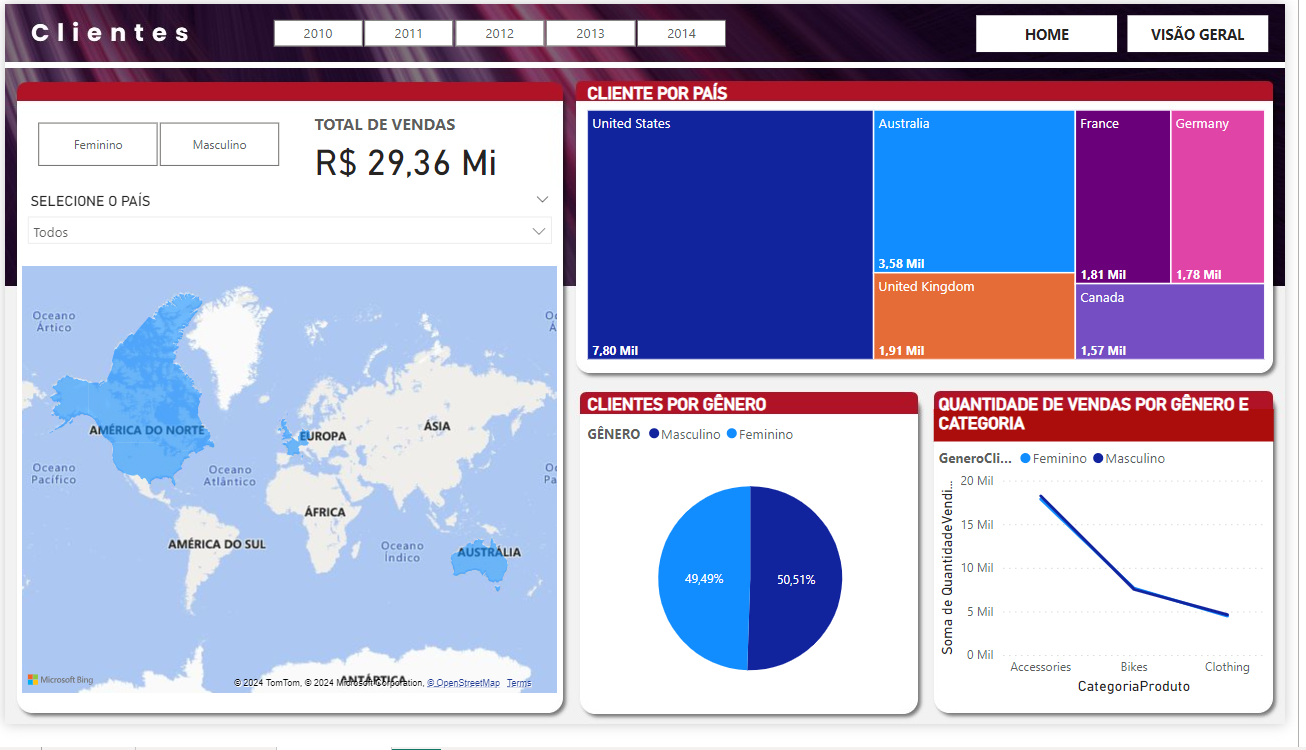

What the dashboard file says about the page in this screenshot:
{"tool":"powerbi","page":{"name":"CLIENTES","canvas":[1280,720],"ordinal":2},"visuals":[{"type":"shape","box":[928.8,405,340,32.5],"z":0},{"type":"filledMap","fields":{"Category":["vw_AnaliseVendas.PaisCliente"]},"box":[12.3,257.3,544.1,437.5],"z":1000},{"type":"cardVisual","fields":{"Data":["Sum(vw_AnaliseVendas.ValorVenda)"]},"box":[292.9,96.8,263.5,87],"z":2000},{"type":"slicer","fields":{"Values":["vw_AnaliseVendas.PaisCliente"]},"box":[12.3,183.8,544.1,73.5],"z":3000},{"type":"pieChart","title":"CLIENTES POR GÊNERO","fields":{"Category":["vw_AnaliseVendas.GeneroCliente"],"Y":["Sum(vw_AnaliseVendas.IDCliente)"]},"box":[577.1,389.7,335.7,319.8],"z":4000},{"type":"treemap","title":"CLIENTE POR PAÍS","fields":{"Group":["vw_AnaliseVendas.PaisCliente"],"Values":["vw_AnaliseVendas.qt_cliente"]},"box":[577.1,78.4,687.4,281.8],"z":5000},{"type":"slicer","fields":{"Values":["vw_AnaliseVendas.GeneroCliente"]},"box":[12.3,96.8,280.6,73.5],"z":6000},{"type":"lineChart","title":"QUANTIDADE DE VENDAS POR GÊNERO E CATEGORIA","fields":{"Category":["vw_AnaliseVendas.CategoriaProduto"],"Y":["Sum(vw_AnaliseVendas.QuantidadeVendida)"],"Series":["vw_AnaliseVendas.GeneroCliente"]},"box":[928.8,390,336.2,305],"z":7000},{"type":"pageNavigator","box":[971.2,11.2,293.8,37.5],"z":9000},{"type":"slicer","fields":{"Values":["vw_AnaliseVendas.DataPedido.Variation.Hierarquia de datas.Ano"]},"box":[242.5,8.8,502.5,40],"z":9001}]}

Visuals, with their boxes in screenshot pixels (x1, y1, x2, y2), scaled from the page's 1280x720 canvas onto the 1306x750 screenshot:
shape: <region>948, 422, 1295, 456</region>
filledMap - vw_AnaliseVendas.PaisCliente: <region>13, 268, 568, 724</region>
cardVisual - Sum(vw_AnaliseVendas.ValorVenda): <region>299, 101, 568, 191</region>
slicer - vw_AnaliseVendas.PaisCliente: <region>13, 191, 568, 268</region>
"CLIENTES POR GÊNERO" pieChart: <region>589, 406, 931, 739</region>
"CLIENTE POR PAÍS" treemap: <region>589, 82, 1290, 375</region>
slicer - vw_AnaliseVendas.GeneroCliente: <region>13, 101, 299, 177</region>
"QUANTIDADE DE VENDAS POR GÊNERO E CATEGORIA" lineChart: <region>948, 406, 1291, 724</region>
pageNavigator: <region>991, 12, 1291, 51</region>
slicer - vw_AnaliseVendas.DataPedido.Variation.Hierarquia de datas.Ano: <region>247, 9, 760, 51</region>
